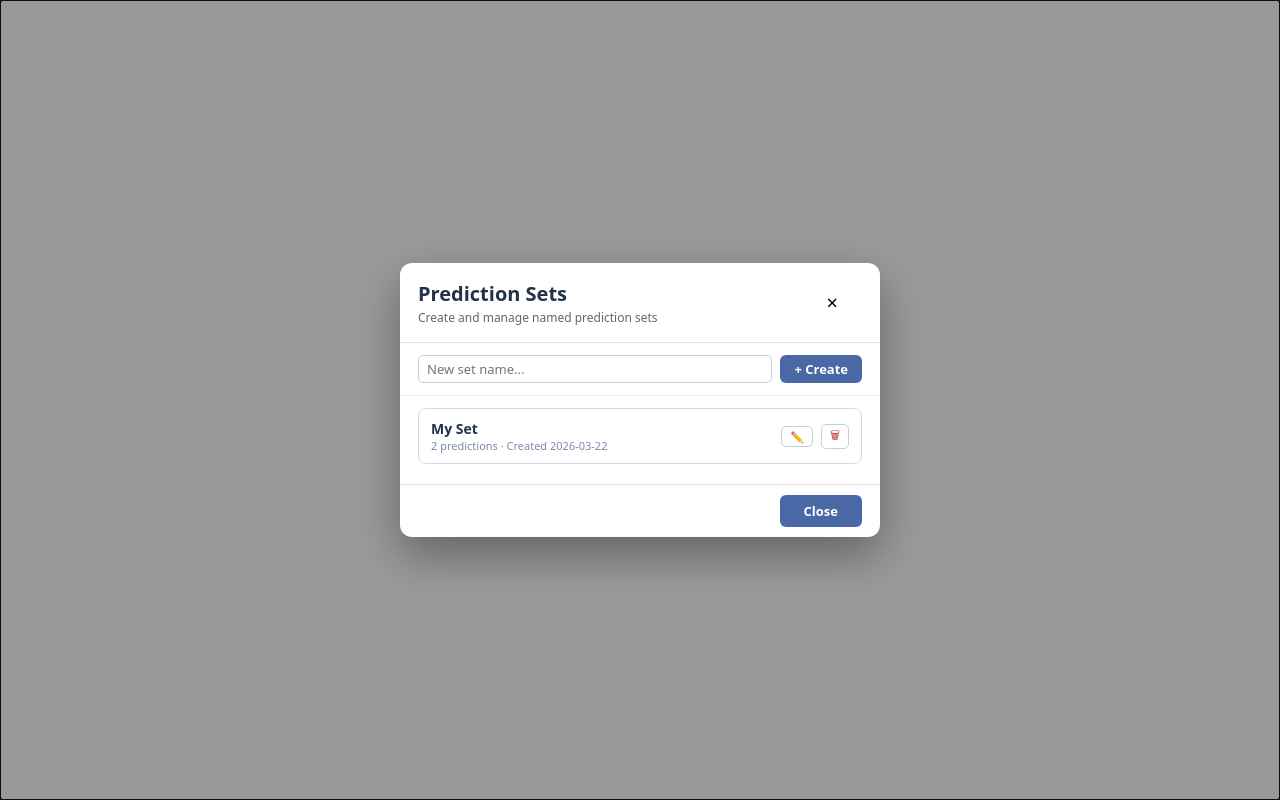
Test case: PredictionsPanel › shows active and resolved sections in set view
What coordinates should you click on to do the following:
click the text "My Set"
I would click on:
 (454, 428)
Its box is [431,419,478,438].
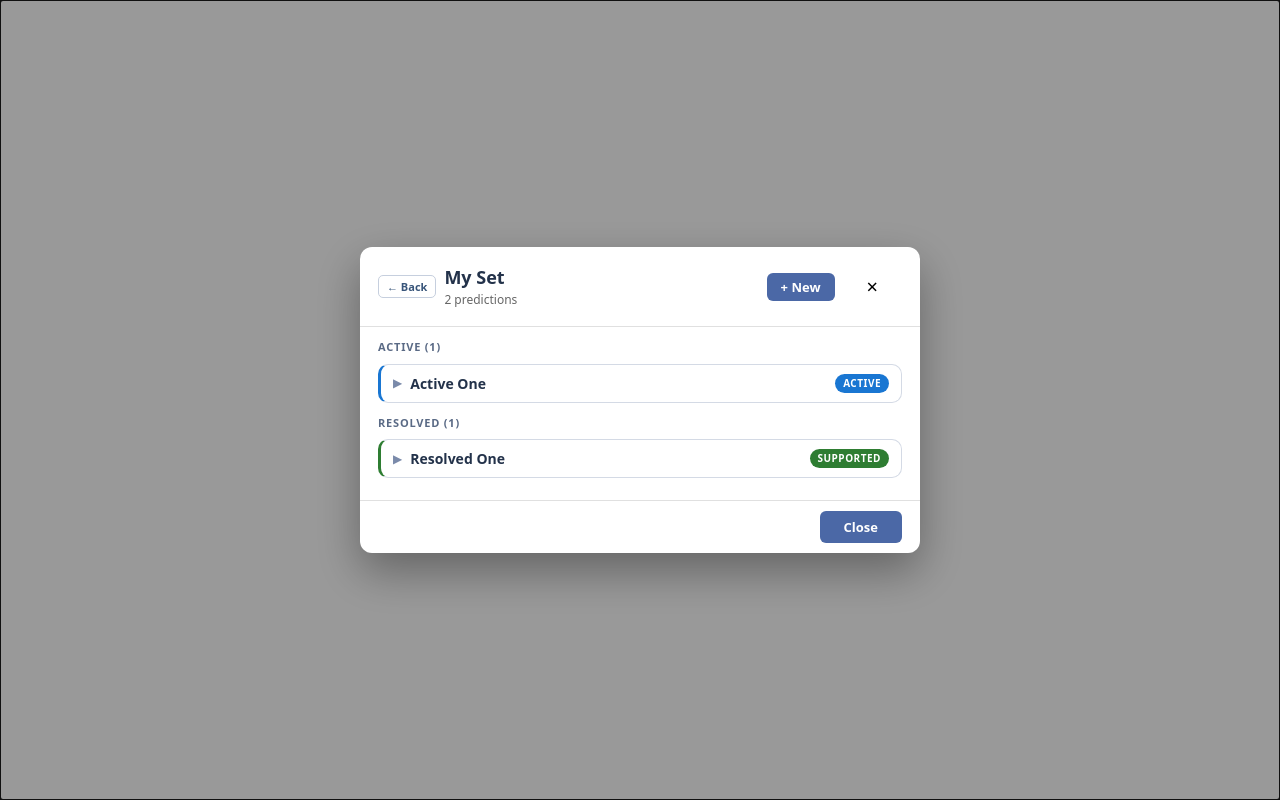
Check: the text "Active (1)" is shown, box [378,339,441,354]
Check: the text "Resolved (1)" is shown, box [378,414,460,430]
